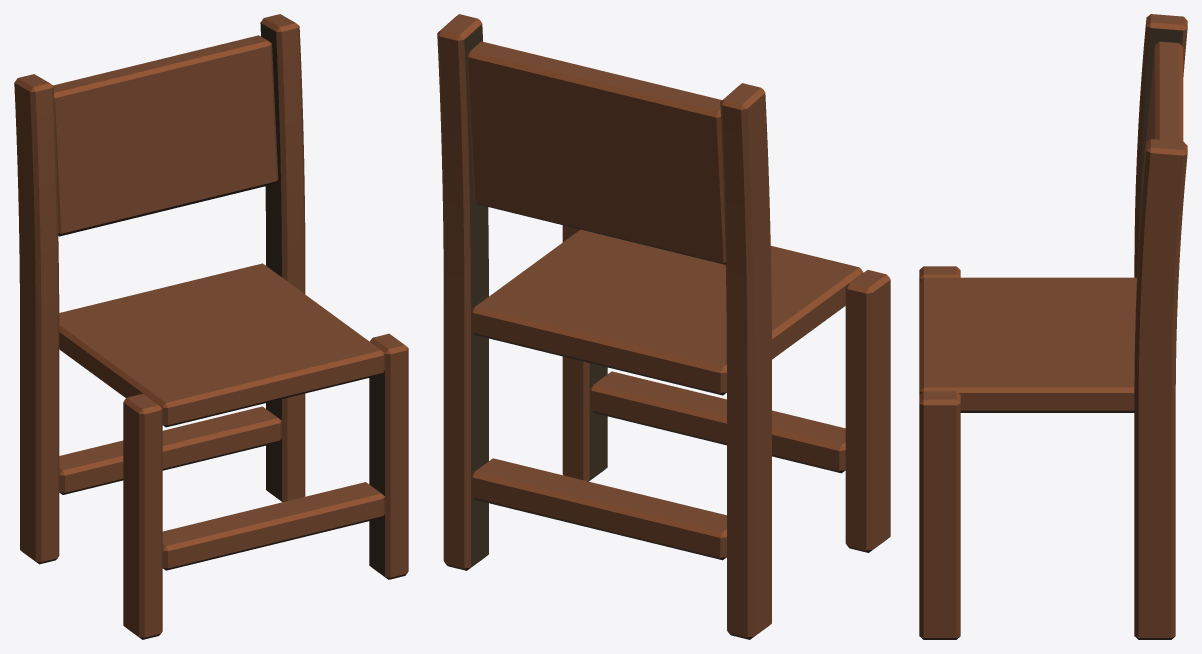
Rendered from WoodenChair.fbx.
The picture shows the model from 3 angles, left to right: view 1: azimuth 30°, elevation 25°; view 2: azimuth 150°, elevation 25°; view 3: azimuth 270°, elevation 25°; orthographic projection. The views are drawn at different scales.
Visible parts, largest first — view 1: WoodenChair; view 2: WoodenChair; view 3: WoodenChair.
Boxes of the visible parts, x1=… form: WoodenChair: x1=14, y1=14, x2=408, y2=639; WoodenChair: x1=437, y1=14, x2=890, y2=639; WoodenChair: x1=919, y1=14, x2=1187, y2=639.
Bounding box in the file's own units: 57.3 × 96.05 × 47.4.
